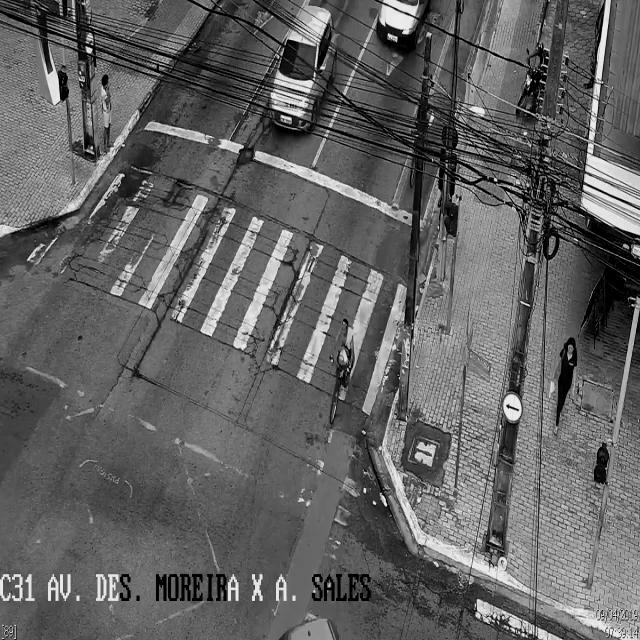Car: (268, 5, 336, 136), (376, 1, 432, 51)
Motorcycle: (328, 317, 354, 425), (516, 44, 550, 118)
